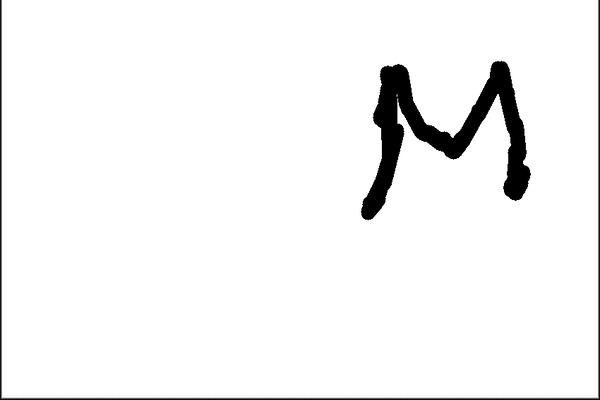M: (360, 51, 532, 214)
